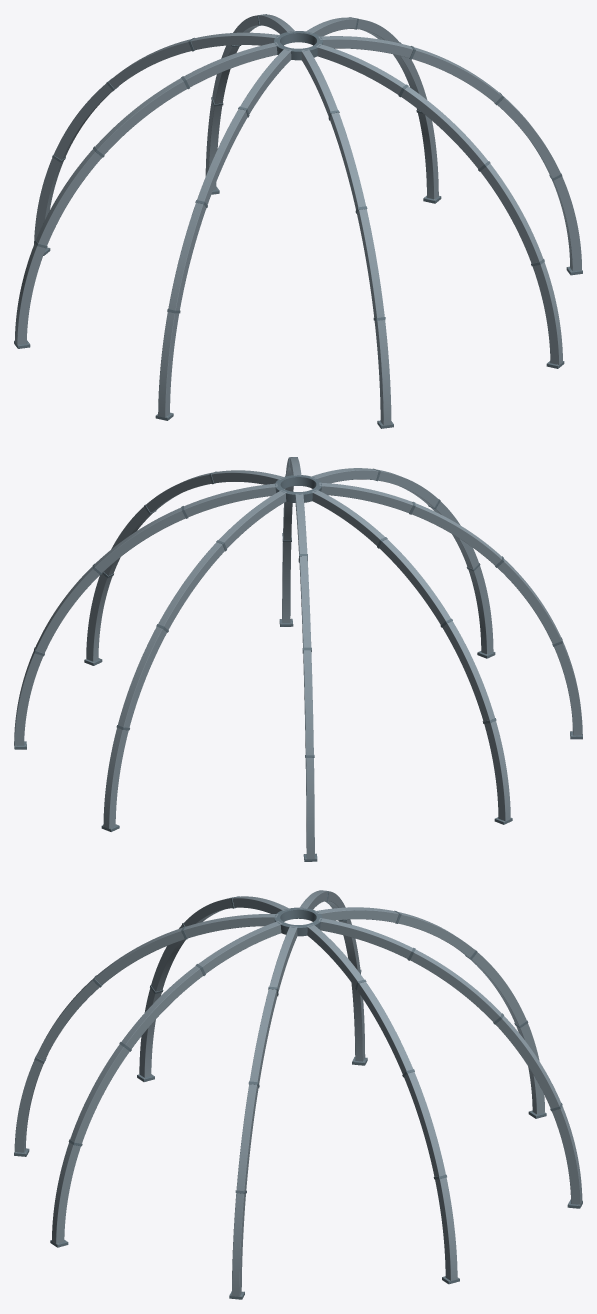
Rendered from AF_C01_ThreePortalRibs.fbx.
The picture shows the model from 3 angles, top to bottom: view 1: azimuth 30°, elevation 25°; view 2: azimuth 150°, elevation 25°; view 3: azimuth 270°, elevation 25°; orthographic projection. The views are drawn at different scales.
Visible parts, largest first — view 1: AF_C01_ThreePortalRibs; view 2: AF_C01_ThreePortalRibs; view 3: AF_C01_ThreePortalRibs.
Part boxes in pixels (x1,y1,x2,y2): AF_C01_ThreePortalRibs: [14, 14, 582, 428]; AF_C01_ThreePortalRibs: [14, 457, 582, 861]; AF_C01_ThreePortalRibs: [14, 890, 582, 1299].
Size of the model in its own units: 1958 by 996 by 1958.
